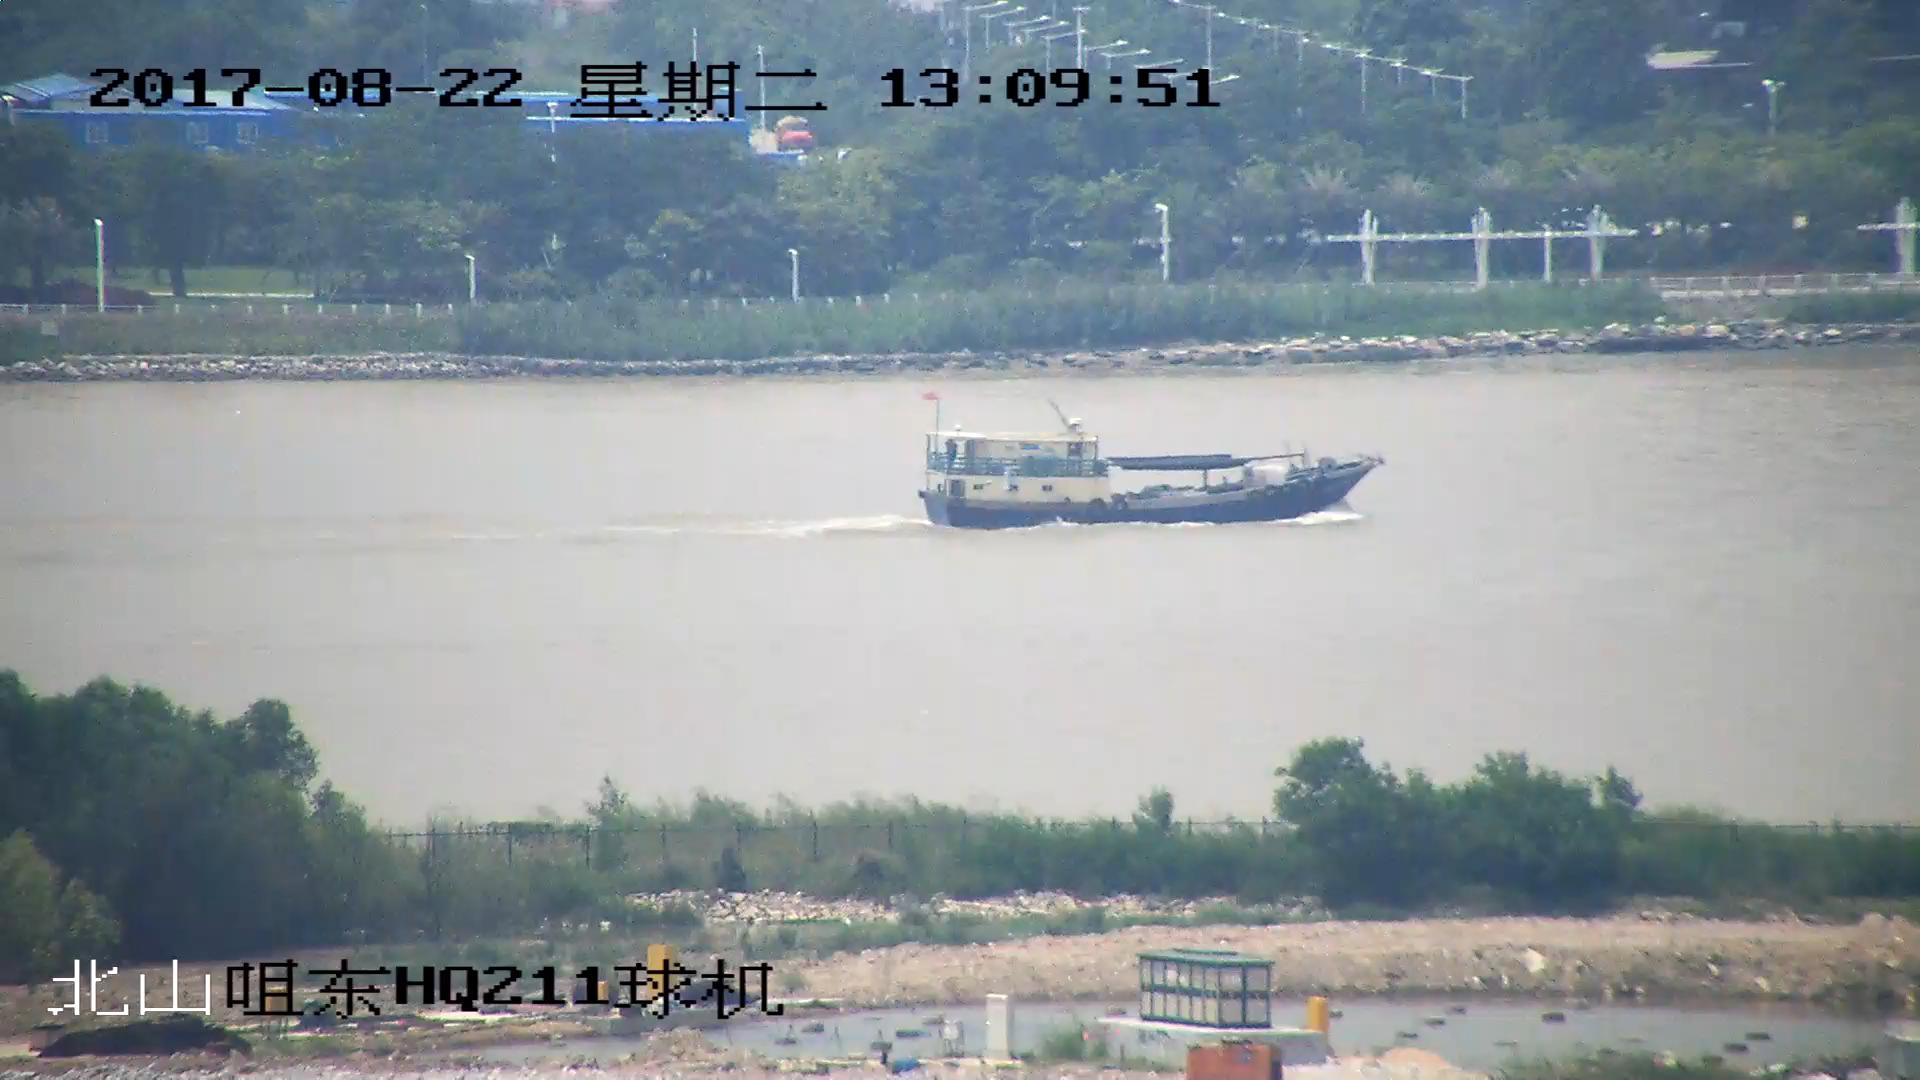fishing boat: (918, 398, 1394, 534)
